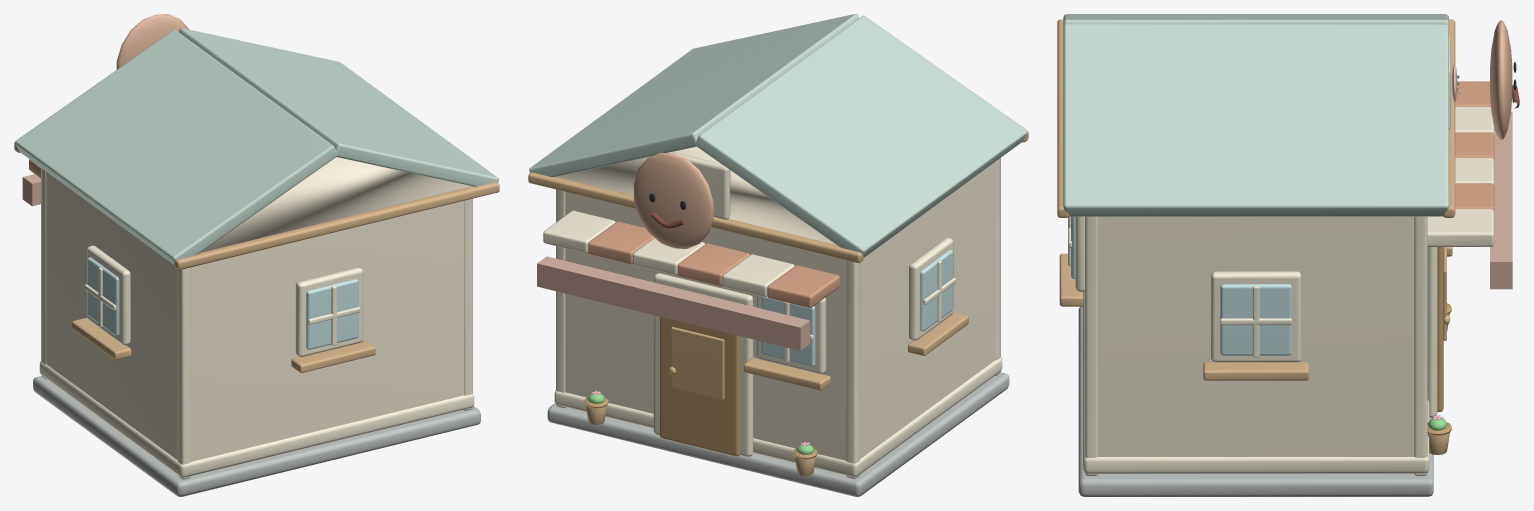
3 renders of one model, left to right at view 1: azimuth 30°, elevation 25°; view 2: azimuth 150°, elevation 25°; view 3: azimuth 270°, elevation 25°, orthographic. The views are drawn at different scales.
Bounding box in the file's own units: 3.62 × 3.39 × 3.67.
